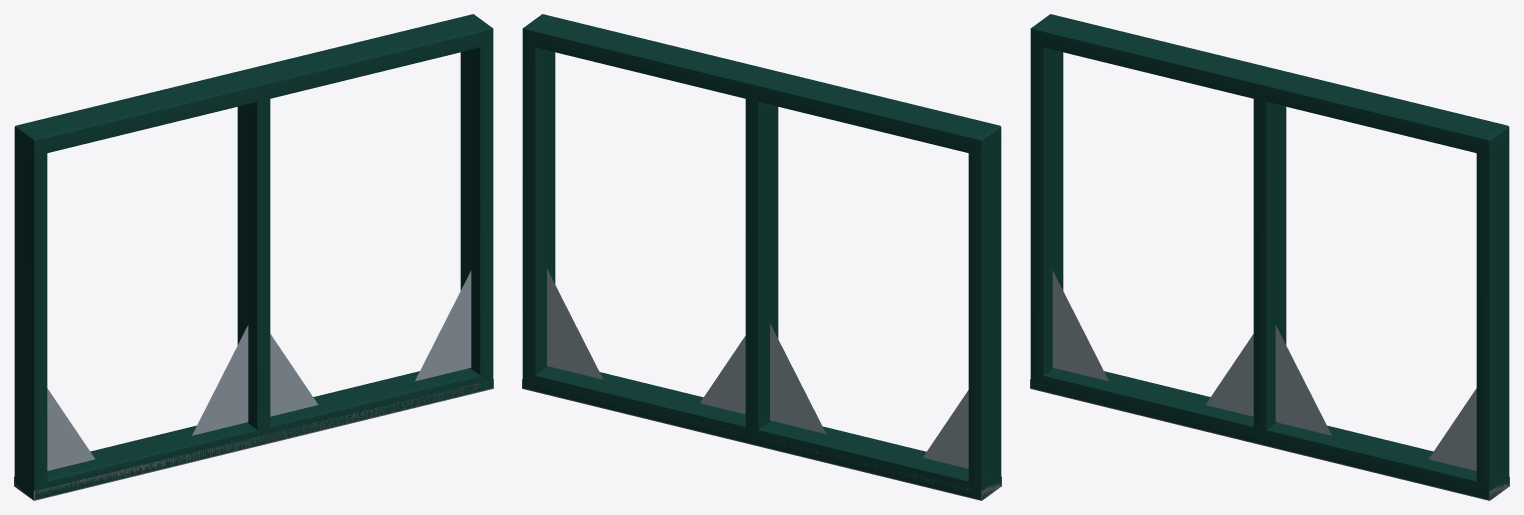
File: shop-window-broken.glb
The picture shows the model from 3 angles, left to right: view 1: azimuth 30°, elevation 25°; view 2: azimuth 150°, elevation 25°; view 3: azimuth 330°, elevation 25°; orthographic projection.
Parts seen in each view (by area): view 1: shop-window-broken; view 2: shop-window-broken; view 3: shop-window-broken.
Part boxes in pixels (left/top/right/bottom): shop-window-broken: left=14, top=14, right=493, bottom=500; shop-window-broken: left=522, top=14, right=1001, bottom=500; shop-window-broken: left=1030, top=14, right=1509, bottom=500.
Bounding box in the file's own units: 4 × 3 × 0.3.
1 material, 1 textured.
